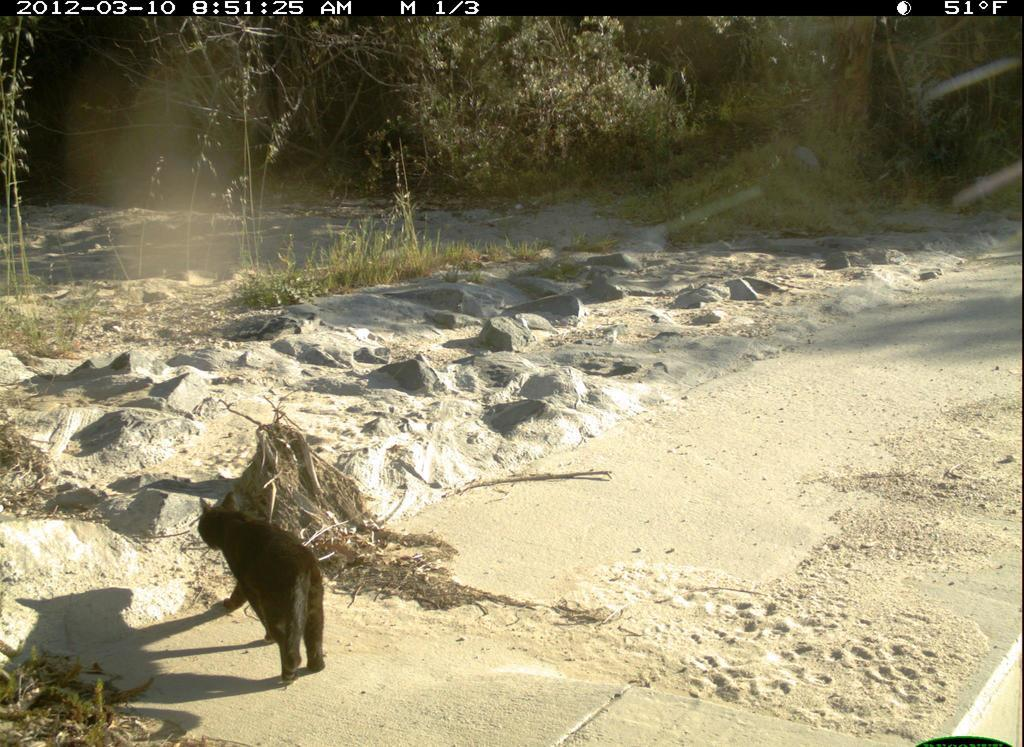cat: (189, 472, 356, 692)
